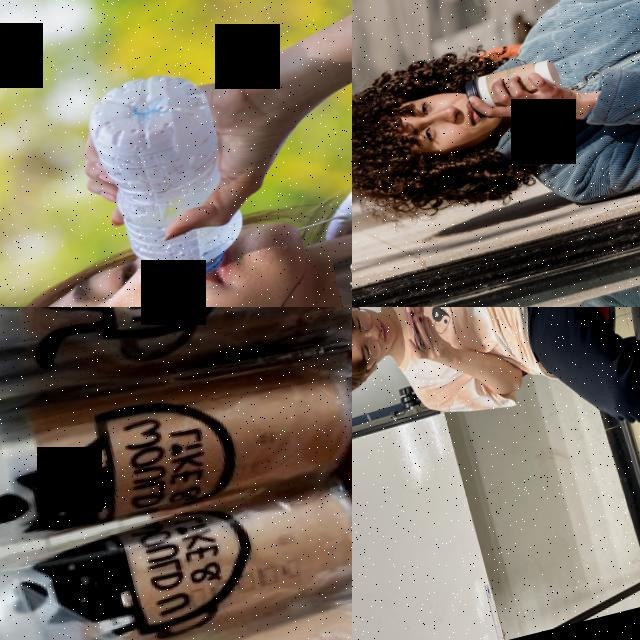bottle: (79, 56, 261, 294)
can: (0, 327, 352, 565), (0, 307, 352, 432)
cup: (460, 53, 566, 121)
